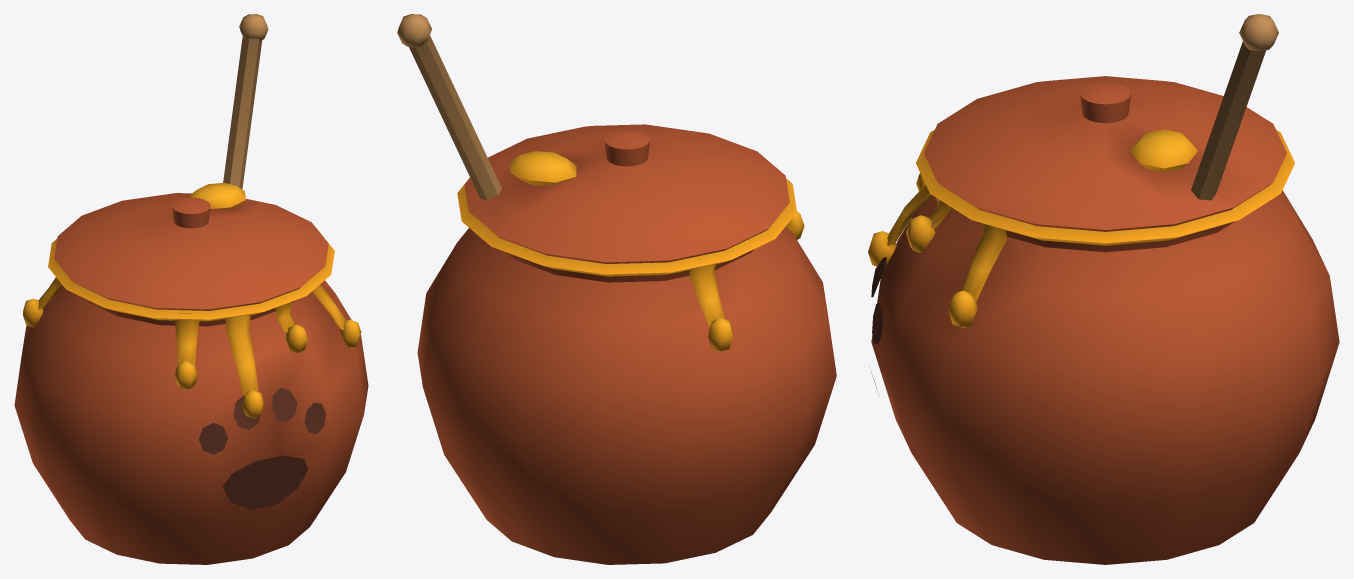
The model's file is gift-honey.glb.
3 views of the same model, side by side, from view 1: azimuth 30°, elevation 25°; view 2: azimuth 150°, elevation 25°; view 3: azimuth 270°, elevation 25° (orthographic). The views are drawn at different scales.
Visible parts, largest first — view 1: Gift honey Clay, Gift honey Honey, Gift honey Paw glaze, Gift honey Dipper wood; view 2: Gift honey Clay, Gift honey Honey, Gift honey Dipper wood; view 3: Gift honey Clay, Gift honey Honey, Gift honey Dipper wood, Gift honey Paw glaze.
Part boxes in pixels (bbox=[...]): Gift honey Clay: bbox=[14, 193, 368, 564]; Gift honey Honey: bbox=[23, 182, 361, 418]; Gift honey Paw glaze: bbox=[198, 388, 325, 509]; Gift honey Dipper wood: bbox=[223, 14, 268, 189]; Gift honey Clay: bbox=[417, 124, 836, 564]; Gift honey Honey: bbox=[457, 151, 804, 351]; Gift honey Dipper wood: bbox=[397, 14, 501, 199]; Gift honey Clay: bbox=[871, 76, 1339, 564]; Gift honey Honey: bbox=[868, 129, 1294, 328]; Gift honey Dipper wood: bbox=[1191, 14, 1278, 200]; Gift honey Paw glaze: bbox=[871, 257, 886, 394].
Bounding box in the file's own units: 0.192 × 0.2532 × 0.1945.
